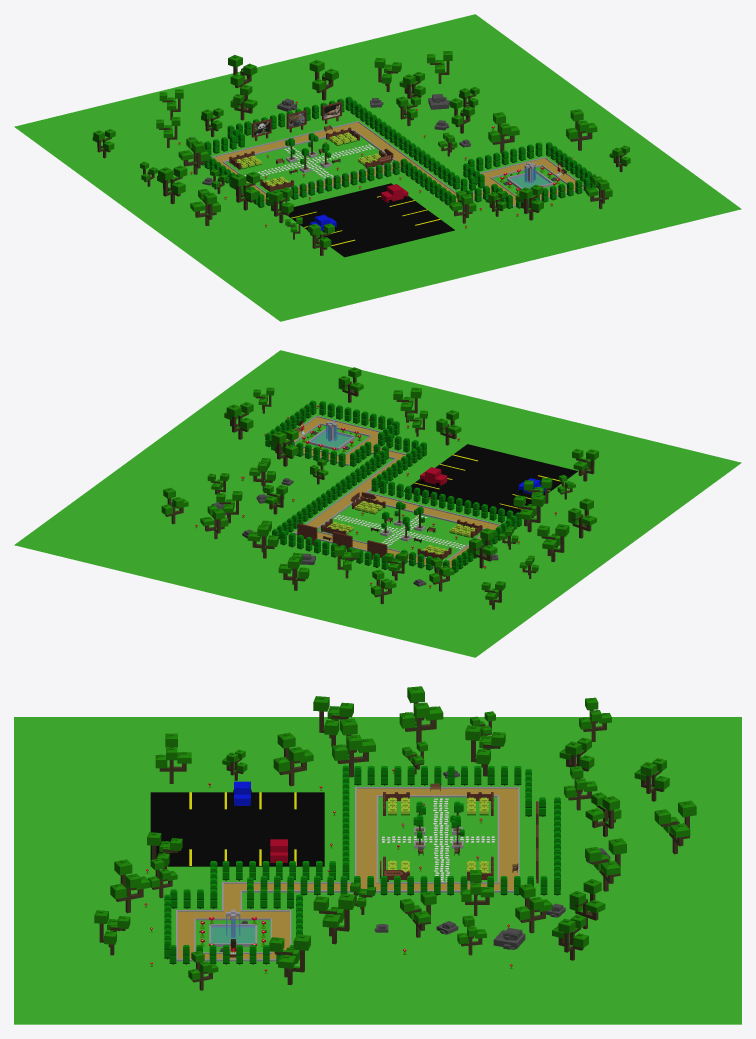
File: Portfolio_3.glb
3 renders of one model, top to bottom at view 1: azimuth 30°, elevation 25°; view 2: azimuth 150°, elevation 25°; view 3: azimuth 270°, elevation 25°, orthographic. The views are drawn at different scales.
Parts seen in each view (by area): view 1: Level; view 2: Level; view 3: Level.
Part boxes in pixels (x1=…): Level: x1=14, y1=14, x2=741, y2=321; Level: x1=14, y1=350, x2=741, y2=657; Level: x1=14, y1=686, x2=741, y2=1024.
Size of what is drawn, in the model's own units: 671 by 52.07 by 671.
Materials: 37 (3 with a texture image).
